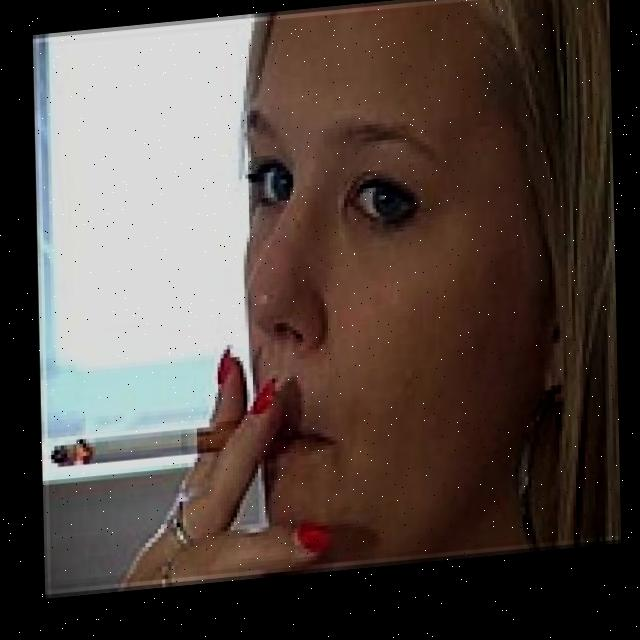cigarette: (49, 428, 239, 470)
